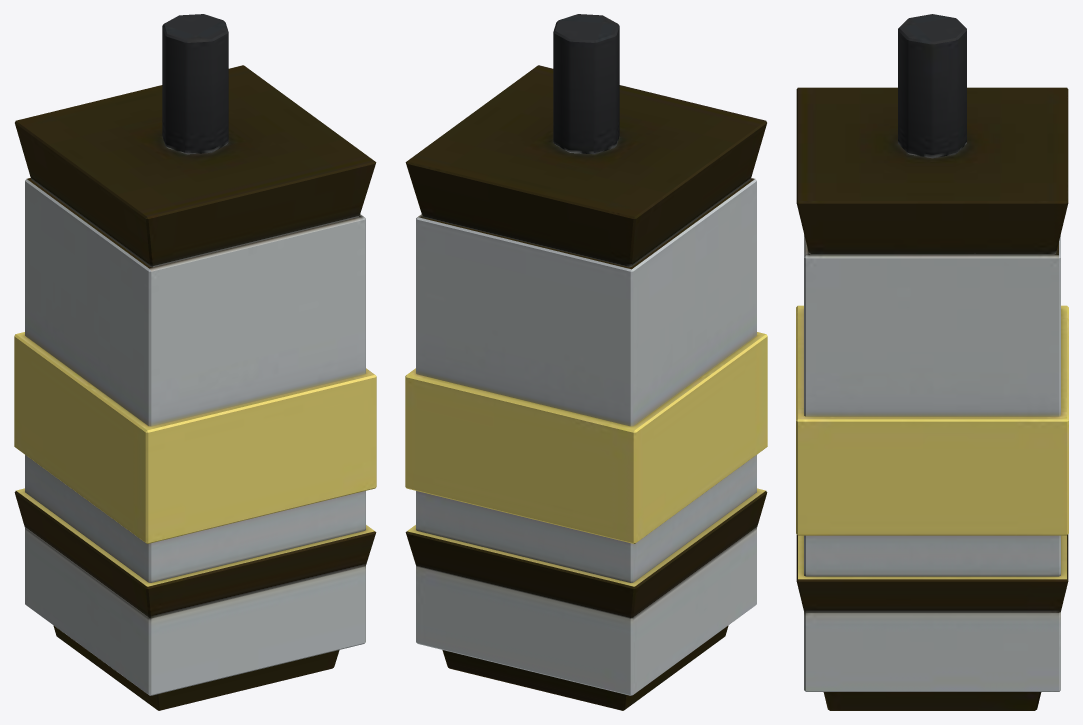
The model's file is IT_fuse_hi.glb.
3 renders of one model, left to right at view 1: azimuth 30°, elevation 25°; view 2: azimuth 150°, elevation 25°; view 3: azimuth 270°, elevation 25°, orthographic. The views are drawn at different scales.
Visible parts, largest first — view 1: IT_fuse_hi; view 2: IT_fuse_hi; view 3: IT_fuse_hi.
Boxes of the visible parts, box(x1,y1,x2,y2) form: IT_fuse_hi: box(14, 14, 376, 710); IT_fuse_hi: box(405, 14, 767, 710); IT_fuse_hi: box(796, 14, 1068, 710).
Bounding box in the file's own units: 0.17 × 0.44 × 0.17.
1 material, 1 textured.
